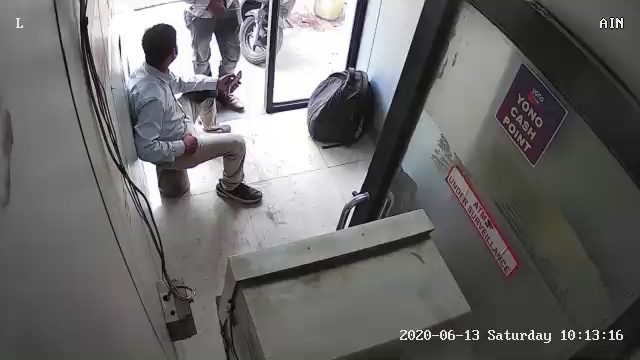open: (179, 7, 375, 141)
